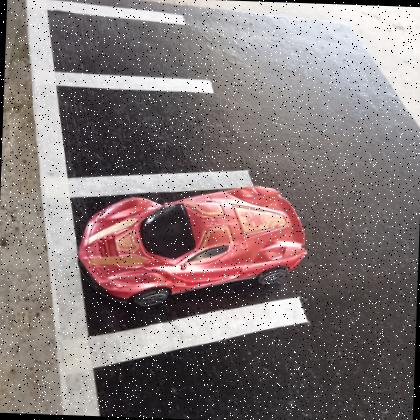Car: (78, 188, 305, 309)
